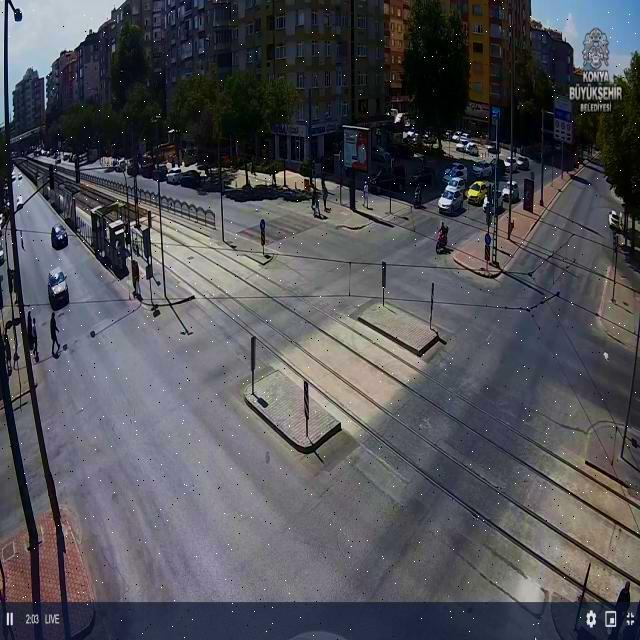Car: (49, 267, 70, 306), (439, 185, 462, 214), (468, 181, 487, 205), (443, 164, 468, 182), (502, 181, 520, 202), (52, 224, 67, 248), (473, 160, 492, 178), (182, 169, 200, 187), (490, 158, 506, 174), (449, 177, 466, 192), (608, 210, 620, 229), (166, 168, 180, 184), (153, 166, 167, 180), (517, 156, 529, 170), (505, 158, 516, 172), (467, 142, 478, 154), (455, 142, 466, 152)
